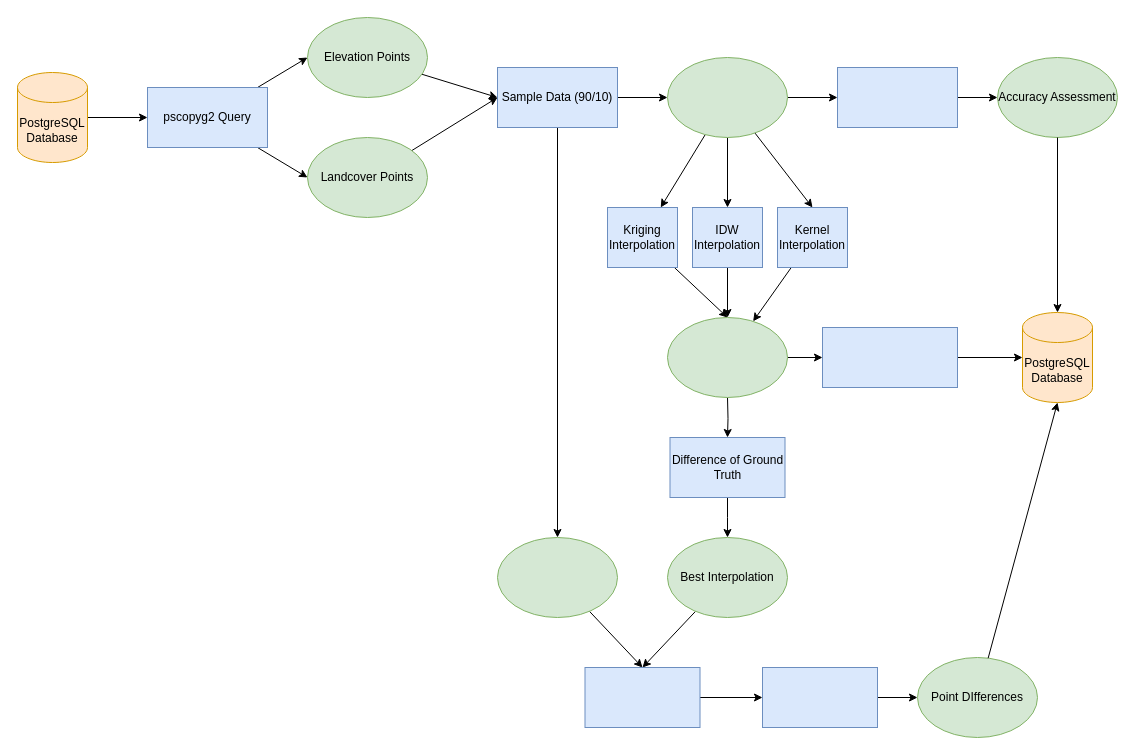
This 1135x755 diagram has some shape labels left out. Here are the shapes that lost their labels. From the top down, the centre of each, then its label:
At point 727,97: "Sampled Data (90% Training)".
At point 897,97: "Exploratory Analysis".
At point 727,357: "Interpolations".
At point 890,357: "Table to Point".
At point 557,577: "Sampled Data (10% Testing)".
At point 642,697: "Extract Raster Value".
At point 820,697: "Calculate Difference".
